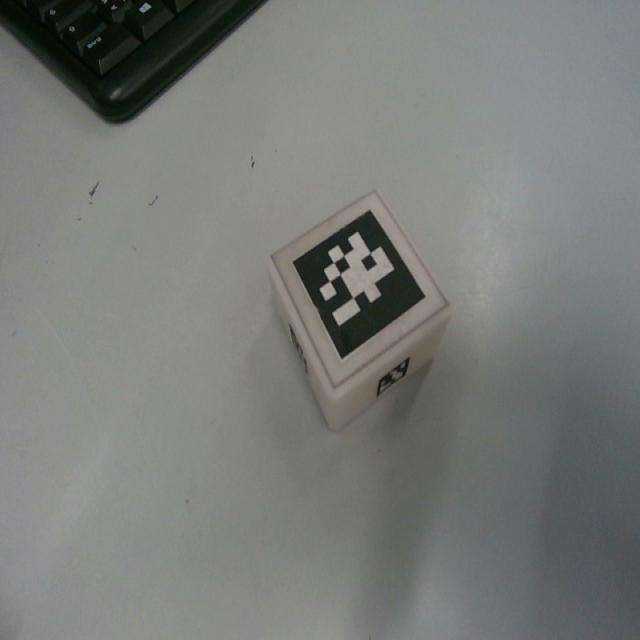Cube: (265, 187, 451, 430)
